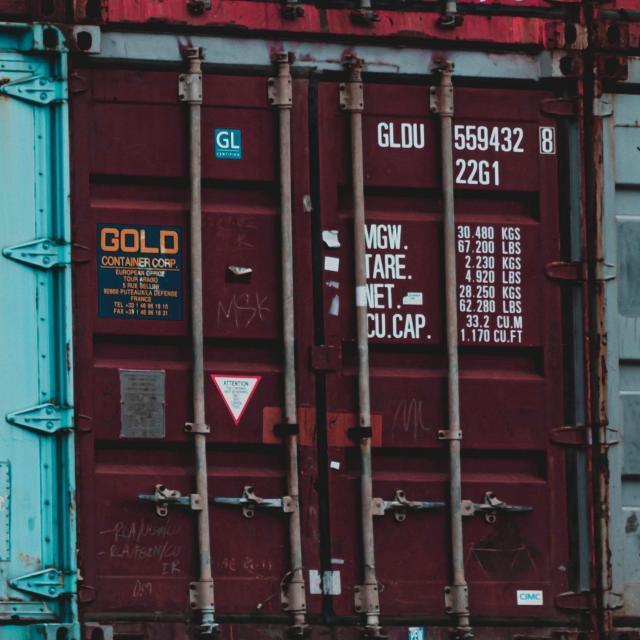ISO: (449, 156, 505, 189)
container_number: (374, 119, 560, 157)
